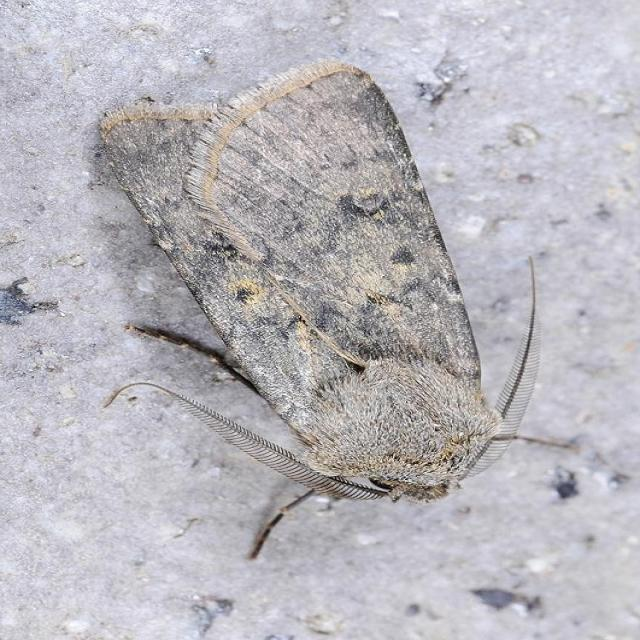black cutworm: (92, 58, 527, 520)
